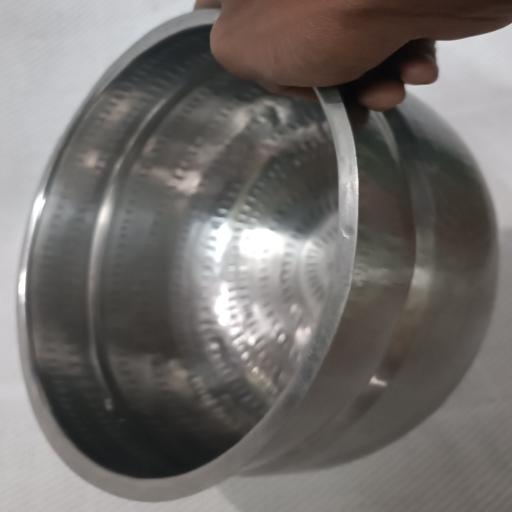vessel: (19, 10, 496, 501)
